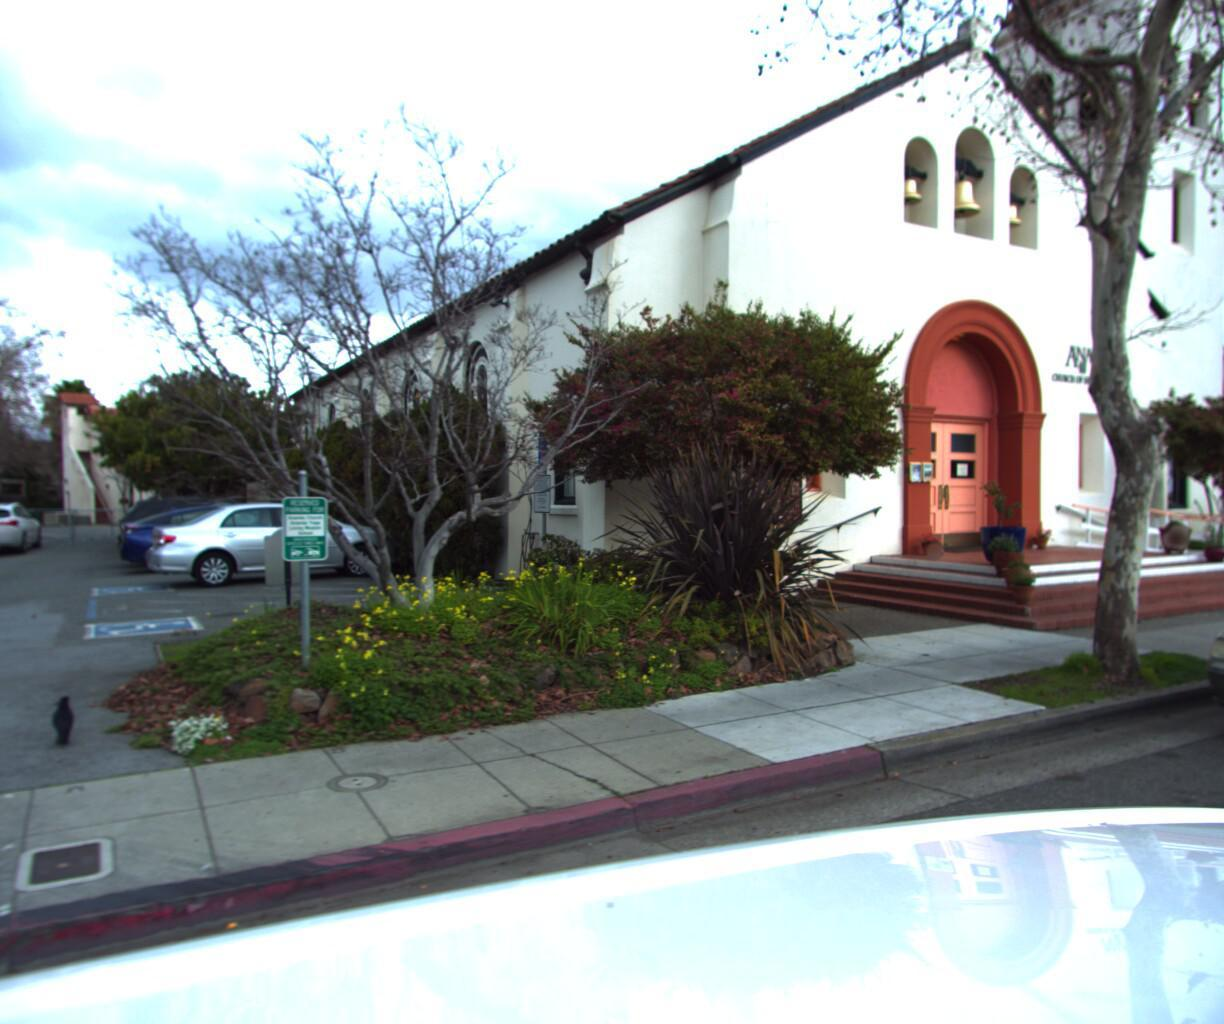car: (1173, 514, 1224, 810)
